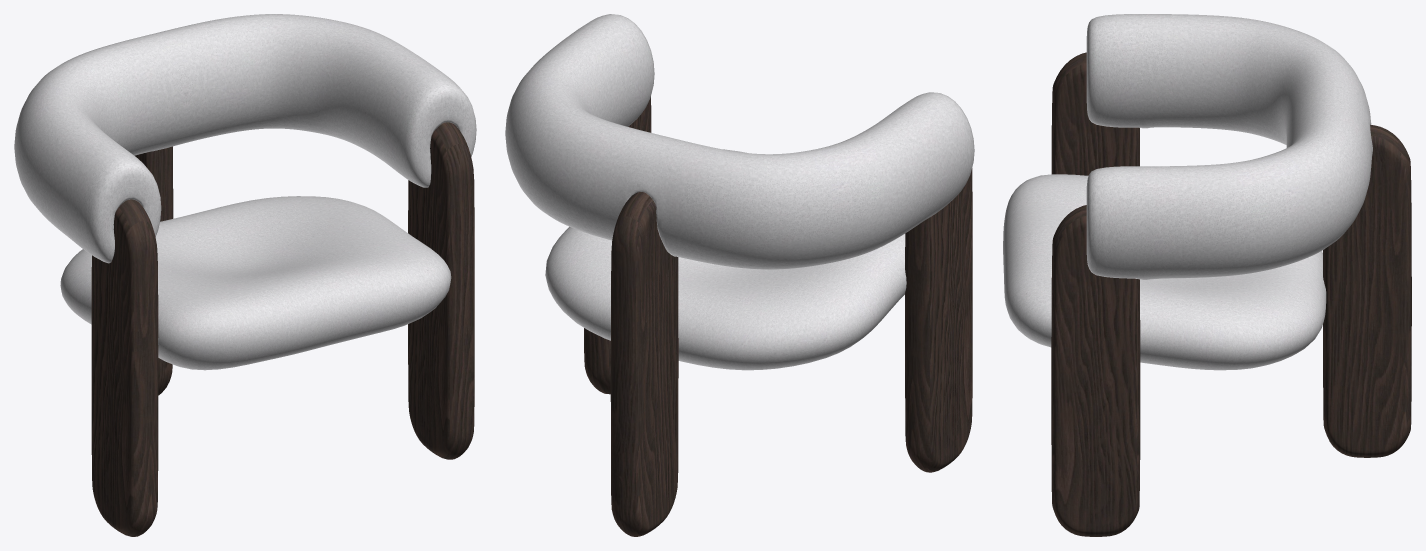
File: accent_armchair.glb
3 renders of one model, left to right at view 1: azimuth 30°, elevation 25°; view 2: azimuth 150°, elevation 25°; view 3: azimuth 270°, elevation 25°, orthographic. The views are drawn at different scales.
Parts seen in each view (by area): view 1: Wood; view 2: Wood; view 3: Wood.
Boxes of the visible parts, <box> form: Wood: <box>14,14,476,536</box>; Wood: <box>505,14,974,536</box>; Wood: <box>1003,14,1411,536</box>.
Bounding box in the file's own units: 0.8891 × 0.8077 × 0.8155.
Materials: 2 (2 with a texture image).
